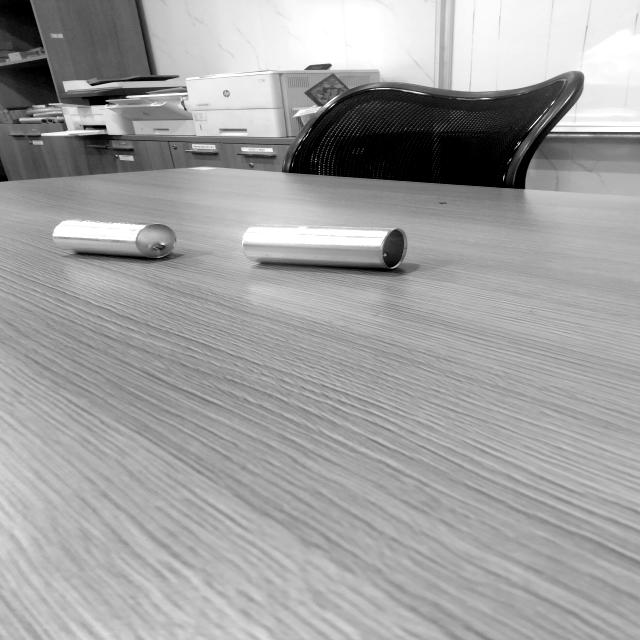Co_Lon: (242, 224, 408, 271)
Co_Nho: (52, 219, 177, 260)
